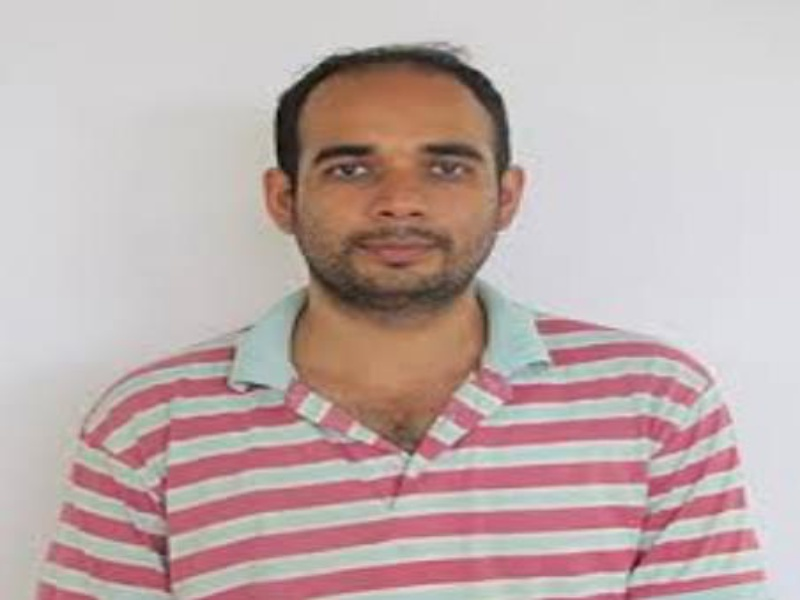TsisyArotava: (258, 57, 538, 320)
